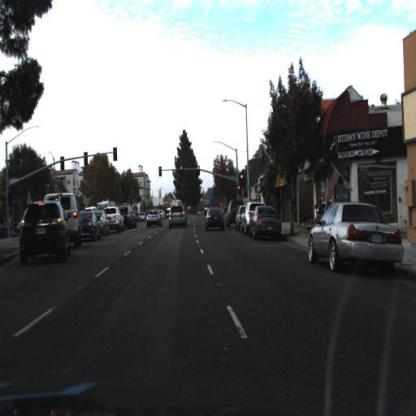car: (307, 194, 408, 282), (19, 198, 71, 271), (43, 191, 87, 252), (248, 204, 286, 242), (250, 206, 283, 238), (224, 194, 247, 231), (80, 206, 101, 244), (102, 204, 125, 237), (205, 205, 226, 233), (244, 204, 263, 234), (167, 204, 188, 231), (120, 204, 138, 233), (106, 209, 123, 236), (228, 202, 243, 232), (121, 206, 137, 231), (146, 207, 162, 232), (97, 211, 111, 235), (238, 206, 248, 233), (148, 212, 162, 229)
trafficLight-Red: (240, 174, 247, 190), (159, 168, 163, 178)
